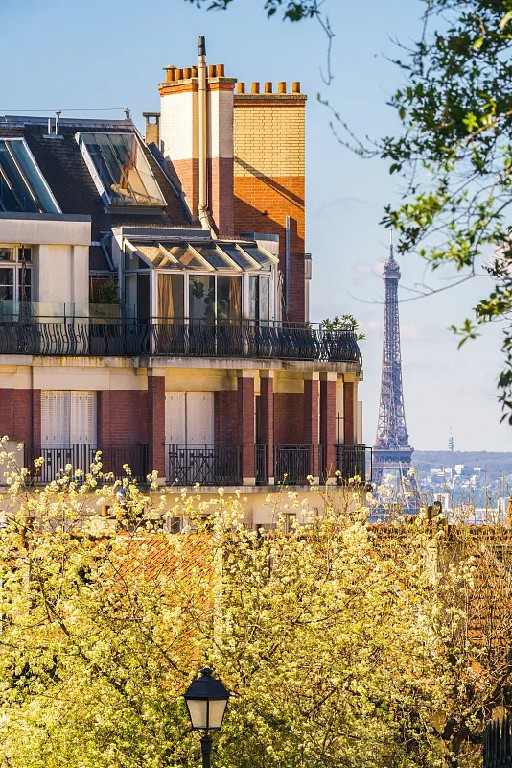Eiffel: (367, 228, 428, 516)
